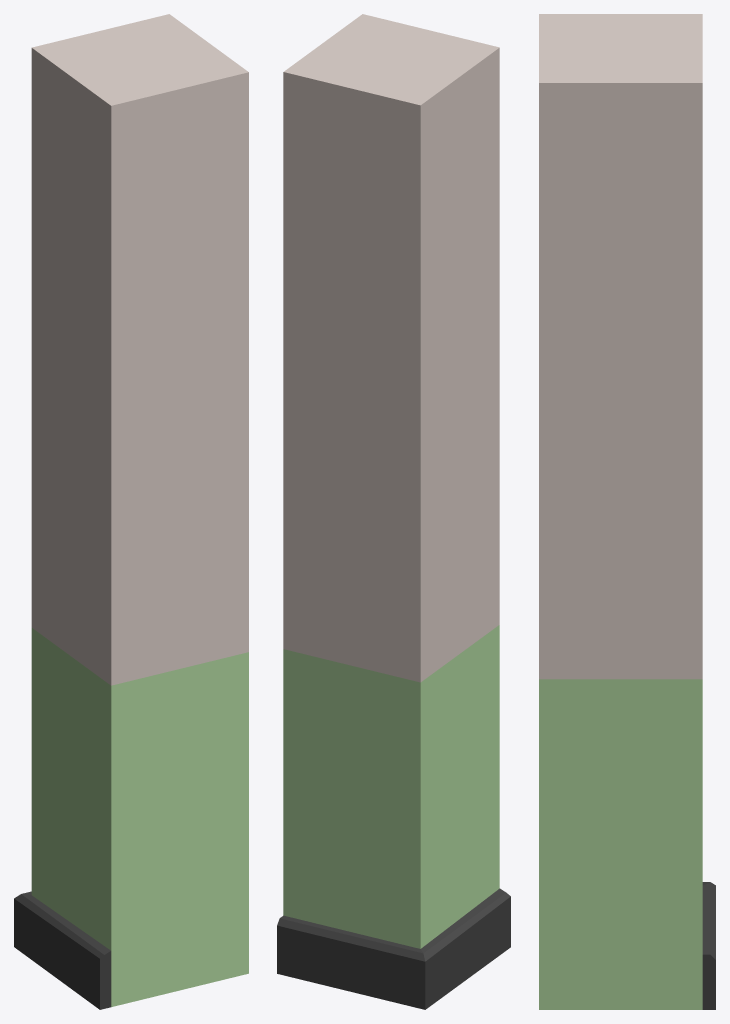
Rendered from Class_Fillar.fbx.
3 renders of one model, left to right at view 1: azimuth 30°, elevation 25°; view 2: azimuth 150°, elevation 25°; view 3: azimuth 270°, elevation 25°, orthographic. The views are drawn at different scales.
Parts seen in each view (by area): view 1: Cube; view 2: Cube; view 3: Cube.
Part boxes in pixels (x1,y1,x2,y2): Cube: [14, 14, 248, 1009]; Cube: [277, 14, 510, 1009]; Cube: [539, 14, 715, 1009].
Size of the model in its own units: 43.24 by 250 by 43.24.
